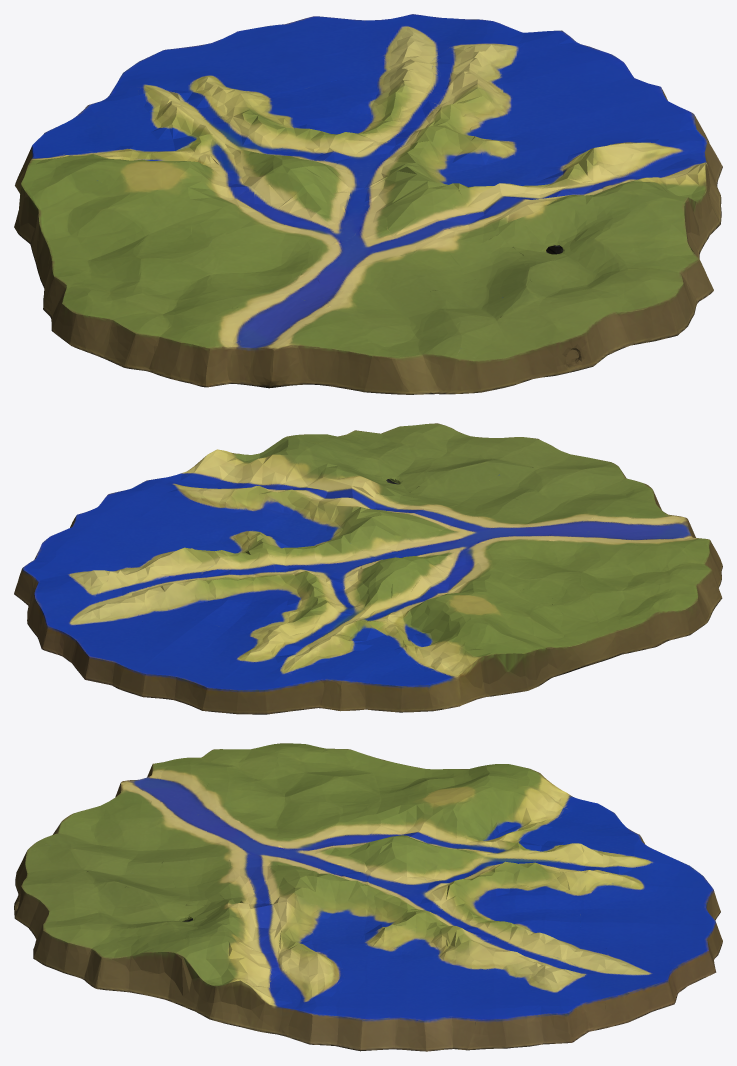
3 views of the same model, one above another, from view 1: azimuth 30°, elevation 25°; view 2: azimuth 150°, elevation 25°; view 3: azimuth 270°, elevation 25° (orthographic). The views are drawn at different scales.
Visible parts, largest first — view 1: world; view 2: world; view 3: world.
Boxes of the visible parts, x1=… form: world: x1=14, y1=14, x2=722, y2=394; world: x1=14, y1=423, x2=722, y2=714; world: x1=14, y1=743, x2=722, y2=1051.
Size of the model in its own units: 0.9614 by 0.083 by 0.9988.
Materials: 1 (1 with a texture image).
